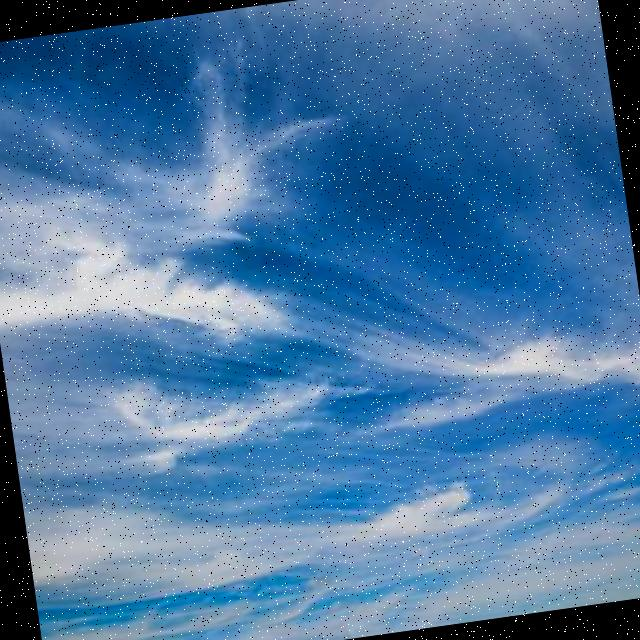Ci: (1, 1, 640, 595)
